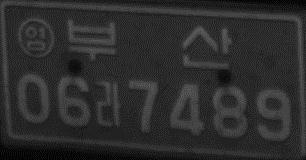0: (15, 70, 49, 126)
4: (169, 81, 205, 134)
6: (56, 75, 92, 127)
7: (126, 78, 159, 133)
8: (212, 85, 249, 139)
9: (255, 87, 291, 142)
라: (93, 78, 122, 128)
부산_D: (66, 17, 232, 70)
영: (16, 15, 55, 59)
